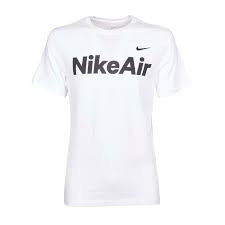nike: (133, 39, 157, 57)
